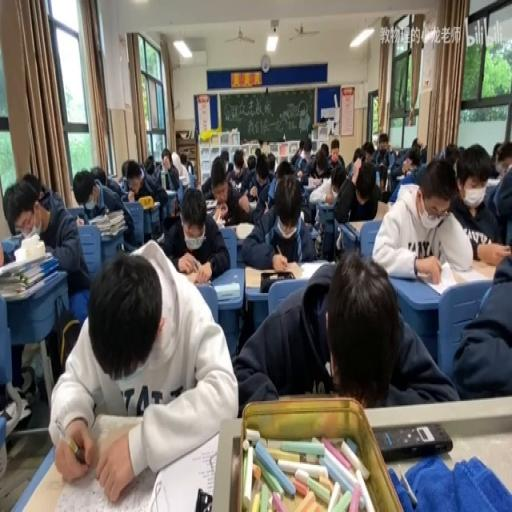calculator: (374, 422, 452, 461), (416, 260, 460, 296), (244, 263, 304, 289), (0, 250, 48, 279), (292, 260, 330, 282), (314, 199, 336, 226), (395, 181, 418, 202), (214, 282, 240, 300), (180, 267, 209, 283), (234, 219, 256, 240), (346, 219, 371, 235), (99, 220, 126, 234), (373, 198, 389, 219), (211, 204, 225, 224), (87, 212, 106, 225), (304, 175, 322, 188), (485, 176, 501, 188), (204, 196, 217, 209), (309, 225, 318, 240), (10, 230, 22, 240), (223, 222, 237, 230), (154, 232, 164, 243), (248, 199, 258, 209), (177, 174, 189, 182), (395, 172, 405, 179), (150, 199, 159, 206)
paper: (50, 240, 237, 501), (232, 249, 453, 411), (4, 174, 91, 380), (372, 158, 474, 280), (452, 240, 512, 401), (238, 172, 317, 269), (162, 184, 228, 282), (334, 155, 380, 228), (126, 156, 168, 225), (482, 144, 511, 243), (406, 144, 432, 182), (226, 148, 248, 190), (158, 148, 181, 188), (290, 136, 313, 175), (22, 174, 47, 208), (370, 132, 392, 166), (443, 142, 459, 165), (275, 159, 293, 179), (392, 148, 409, 169), (376, 164, 387, 196), (90, 165, 106, 186), (361, 141, 374, 165), (179, 151, 192, 175), (143, 154, 155, 174), (266, 150, 276, 174), (219, 150, 229, 174), (332, 178, 344, 198), (133, 182, 146, 199), (491, 141, 501, 161), (120, 159, 130, 178), (259, 138, 270, 155), (315, 160, 326, 176), (320, 141, 330, 158), (334, 154, 344, 170), (351, 145, 360, 162), (257, 168, 267, 183), (246, 155, 255, 171), (170, 198, 178, 216), (253, 145, 260, 158), (138, 164, 144, 179)
person: (194, 488, 211, 509)
